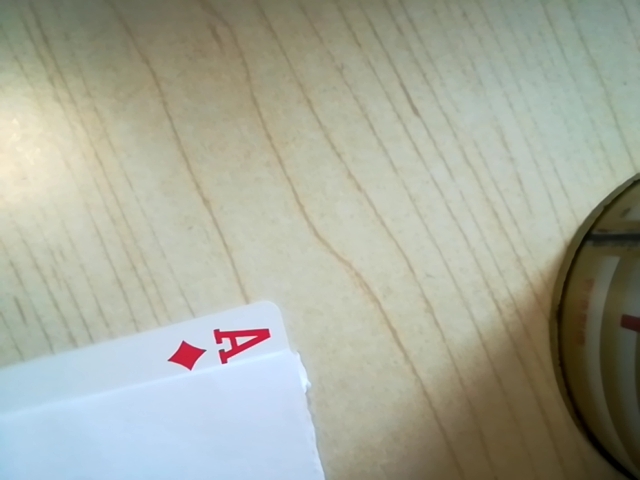fk a: (158, 323, 279, 374)
